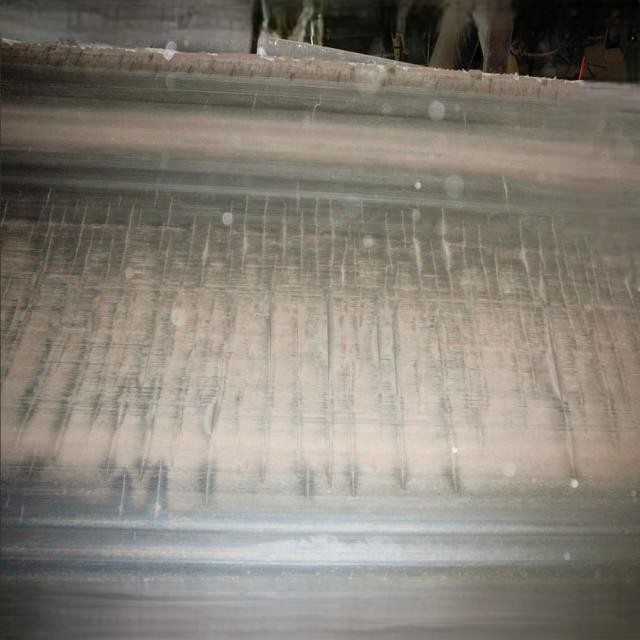Wear: (0, 156, 640, 514)
